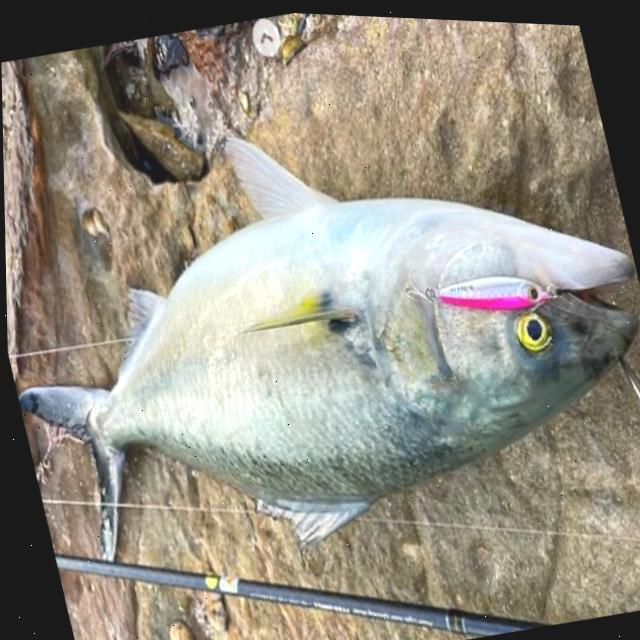Australian Salmon: (1, 38, 640, 621)
